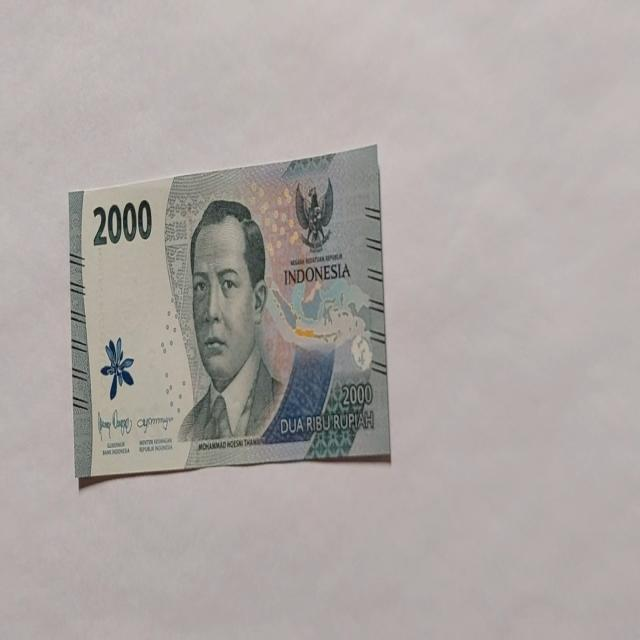dua ribu rupiah: (70, 144, 390, 483), (177, 198, 286, 447)
